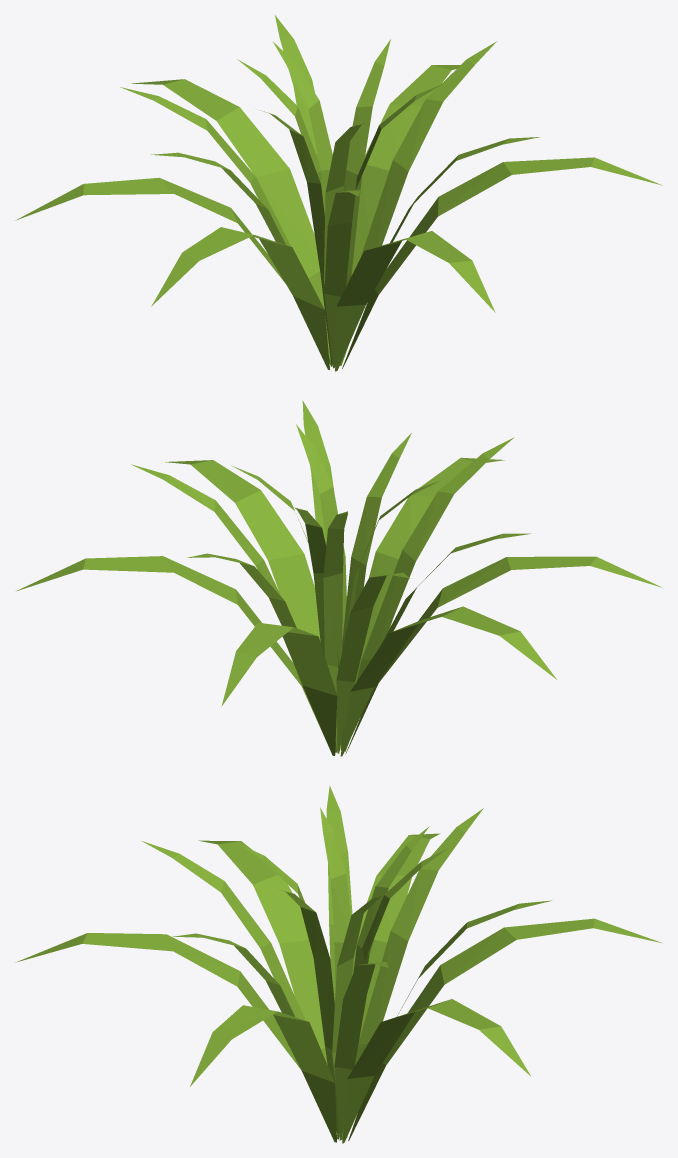
The model's file is grass-big-a.fbx.
The picture shows the model from 3 angles, top to bottom: view 1: azimuth 30°, elevation 25°; view 2: azimuth 150°, elevation 25°; view 3: azimuth 270°, elevation 25°; orthographic projection.
Visible parts, largest first — view 1: grass-big-a; view 2: grass-big-a; view 3: grass-big-a.
Boxes of the visible parts, bbox=[...] form: grass-big-a: bbox=[15, 15, 662, 371]; grass-big-a: bbox=[16, 400, 662, 756]; grass-big-a: bbox=[15, 785, 662, 1143].
Size of the model in its own units: 1.77 by 0.9367 by 1.91.
